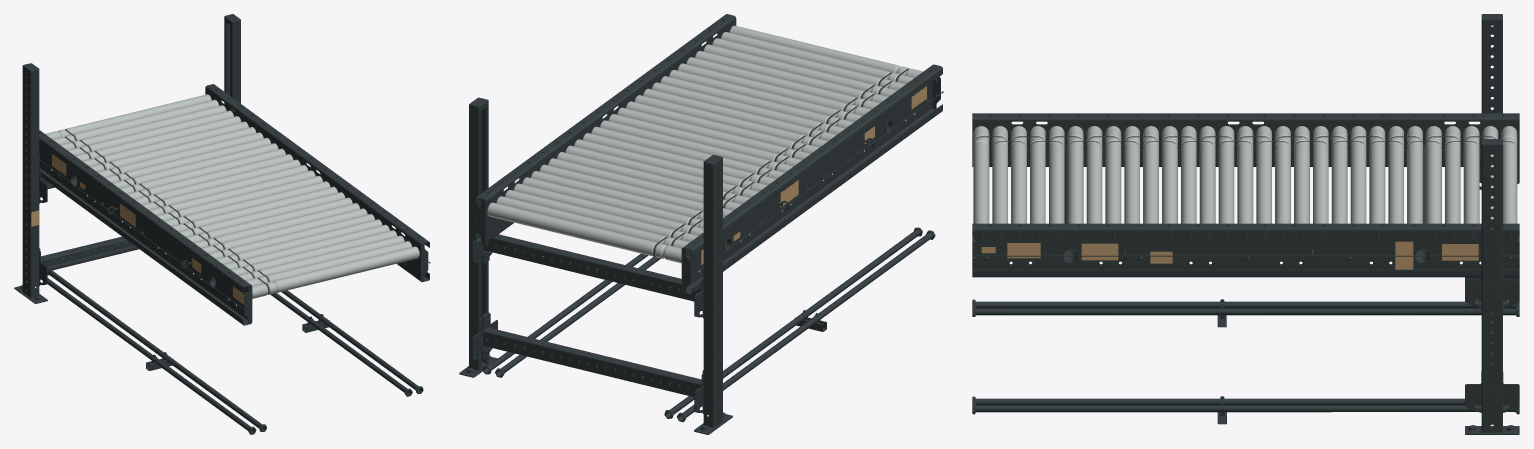
File: conveyor_belt_a05.glb
The picture shows the model from 3 angles, left to right: view 1: azimuth 30°, elevation 25°; view 2: azimuth 150°, elevation 25°; view 3: azimuth 270°, elevation 25°; orthographic projection. The views are drawn at different scales.
Visible parts, largest first — view 1: conveyor_belt_a05; view 2: conveyor_belt_a05; view 3: conveyor_belt_a05.
Part boxes in pixels (x1,y1,x2,y2): conveyor_belt_a05: (14,14,430,434); conveyor_belt_a05: (459,14,943,434); conveyor_belt_a05: (972,14,1519,434).
Bounding box in the file's own units: 1.15 × 1.17 × 2.
